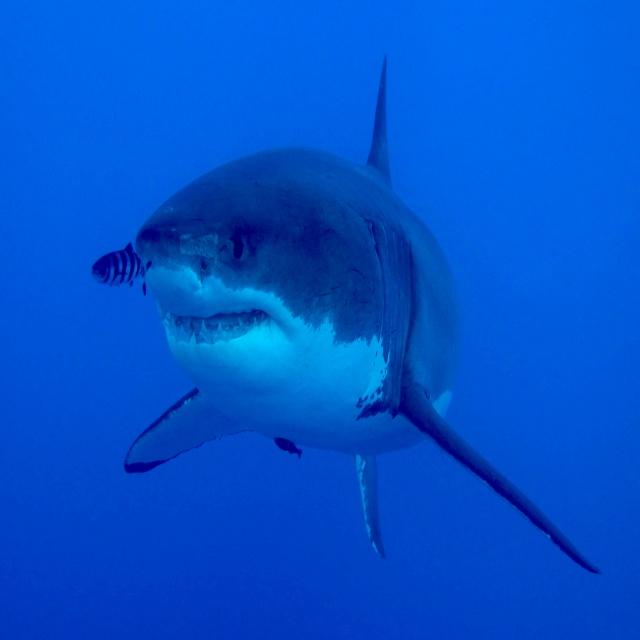Shark: (126, 53, 598, 572)
